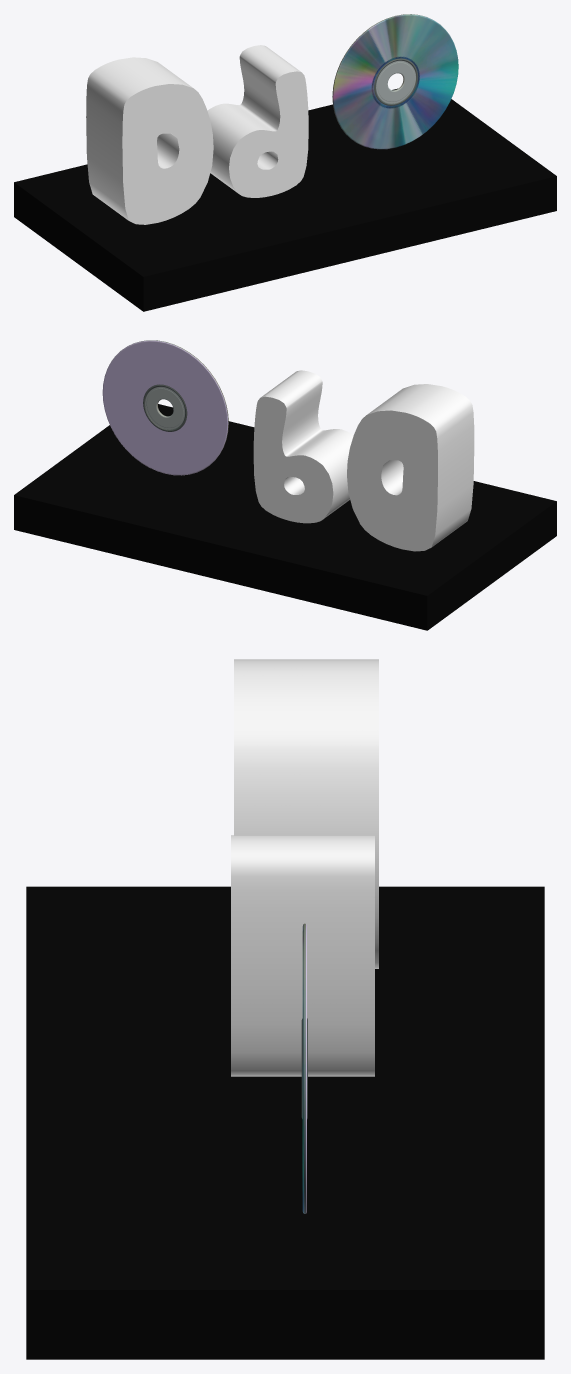
File: Dd_disco_anim.fbx
The picture shows the model from 3 angles, top to bottom: view 1: azimuth 30°, elevation 25°; view 2: azimuth 150°, elevation 25°; view 3: azimuth 270°, elevation 25°; orthographic projection. The views are drawn at different scales.
Visible parts, largest first — view 1: root.001, node_id40, node_id55, node_id47; view 2: root.001, node_id40, node_id55, node_id47; view 3: root.001, node_id47, node_id40, node_id55.
Boxes of the visible parts, x1,y1,x2,y2 form: root.001: [14, 88, 556, 311]; node_id40: [86, 57, 213, 224]; node_id55: [332, 14, 458, 149]; node_id47: [207, 45, 308, 197]; root.001: [14, 404, 556, 630]; node_id40: [347, 384, 474, 551]; node_id55: [102, 340, 228, 475]; node_id47: [253, 370, 353, 523]; root.001: [26, 886, 544, 1359]; node_id47: [231, 835, 374, 1076]; node_id40: [234, 659, 378, 968]; node_id55: [301, 923, 307, 1213].
Size of the model in its own units: 709 by 282 by 384.
